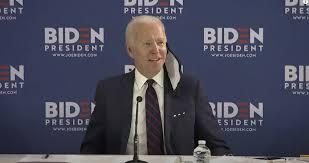Wore Mask Incorrectly: (125, 20, 191, 95)
